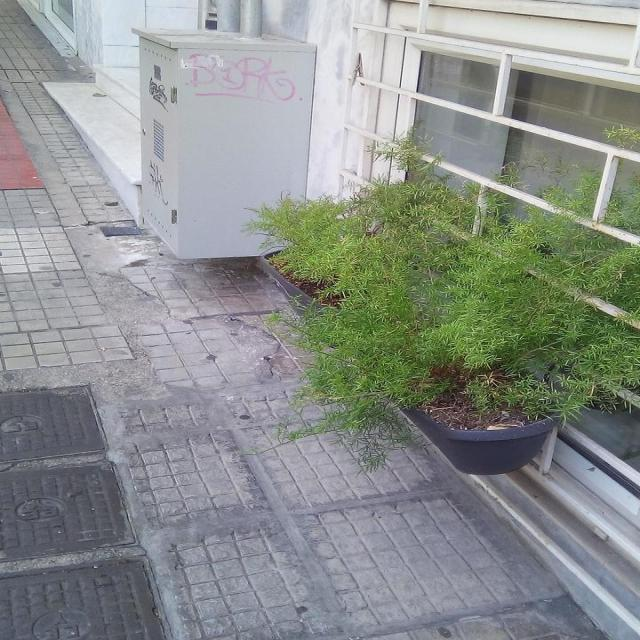nonspitting: (190, 54, 296, 102), (150, 160, 168, 205), (149, 77, 167, 110)
